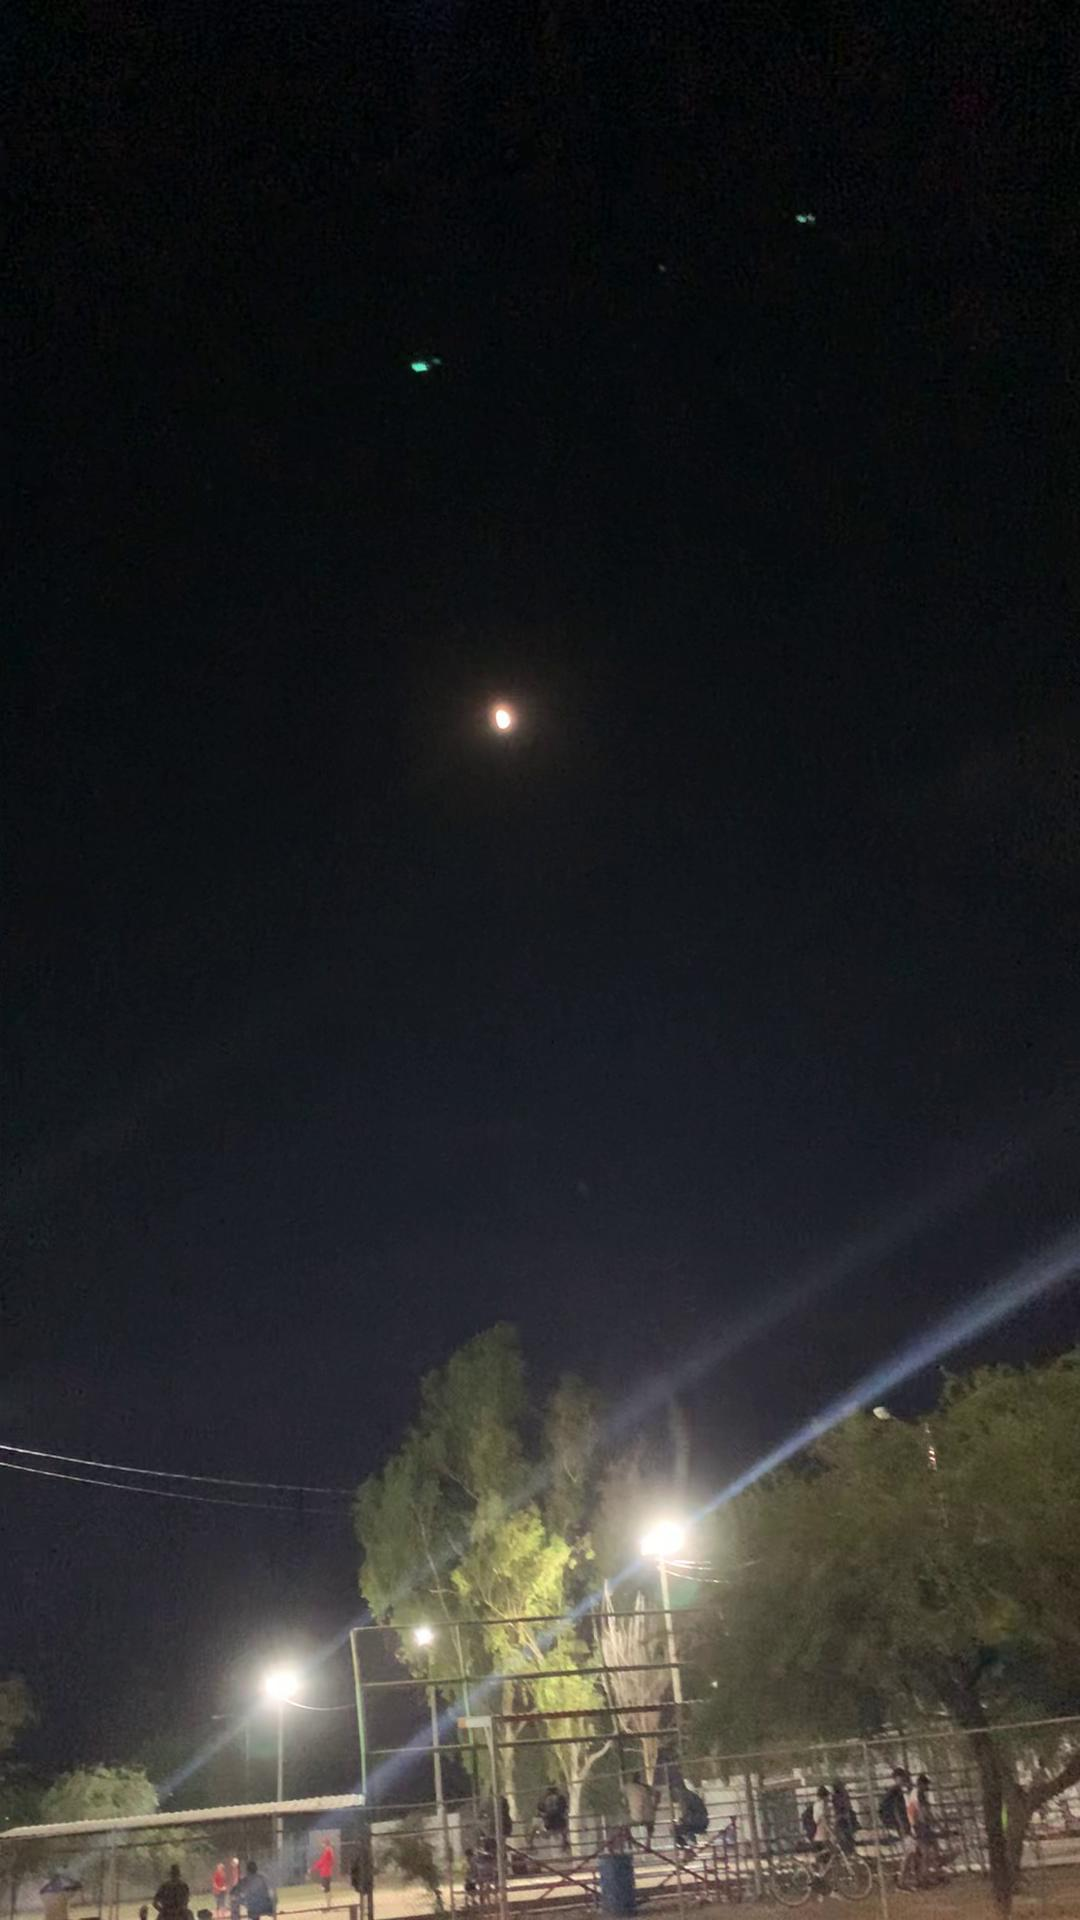moon: (476, 686, 538, 761)
